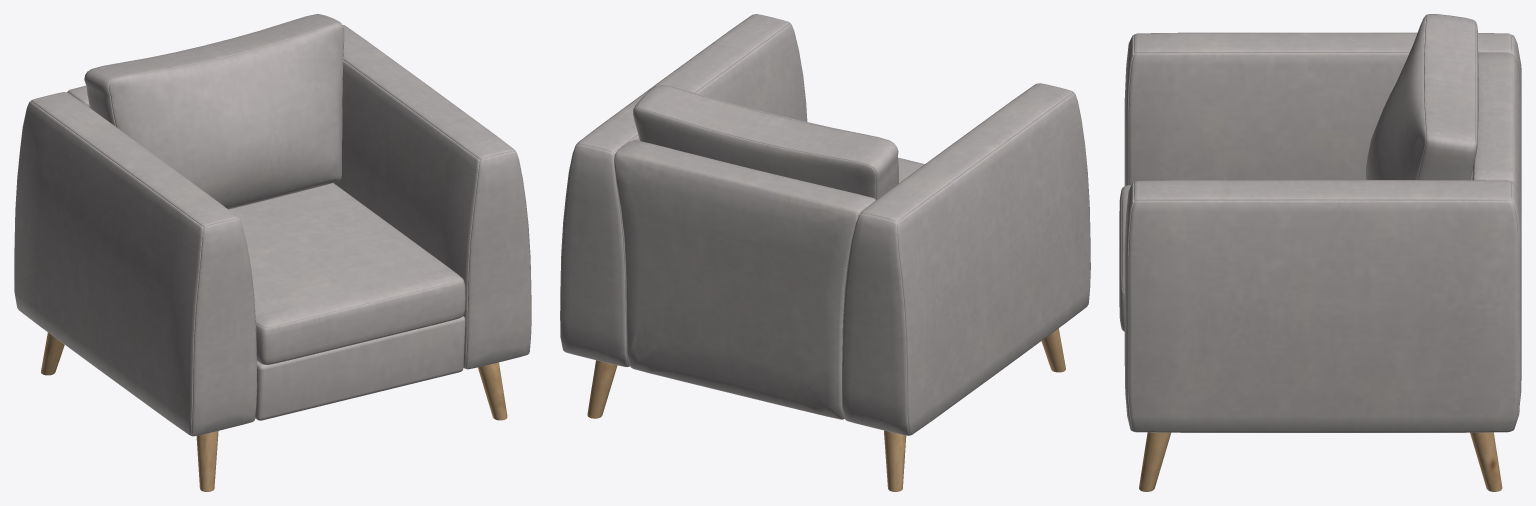
Rendered from B075NR8HWJ.glb.
3 renders of one model, left to right at view 1: azimuth 30°, elevation 25°; view 2: azimuth 150°, elevation 25°; view 3: azimuth 270°, elevation 25°, orthographic. The views are drawn at different scales.
Parts seen in each view (by area): view 1: B075NR8HWJ; view 2: B075NR8HWJ; view 3: B075NR8HWJ.
Part boxes in pixels (x1,y1,x2,y2): B075NR8HWJ: (14,14,531,491); B075NR8HWJ: (560,14,1090,491); B075NR8HWJ: (1119,14,1521,491).
Bounding box in the file's own units: 1 × 0.8598 × 0.9299.
Materials: 1 (1 with a texture image).
